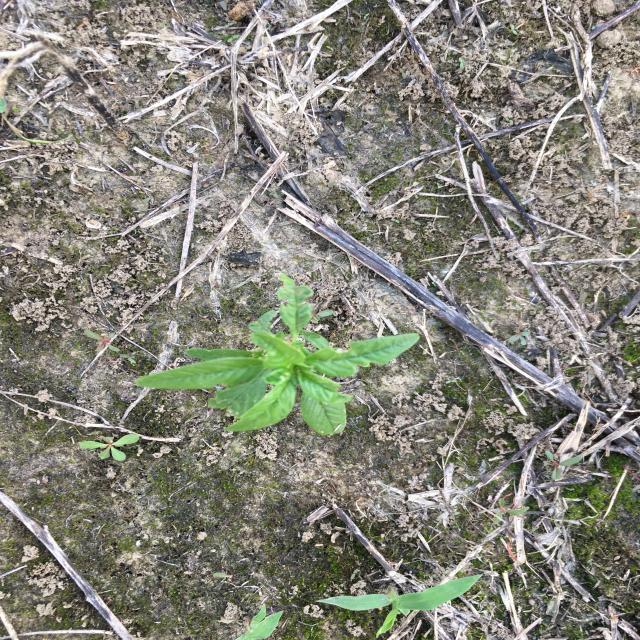Carpetweed: (77, 431, 141, 465)
Waterhemp: (130, 273, 422, 438)
